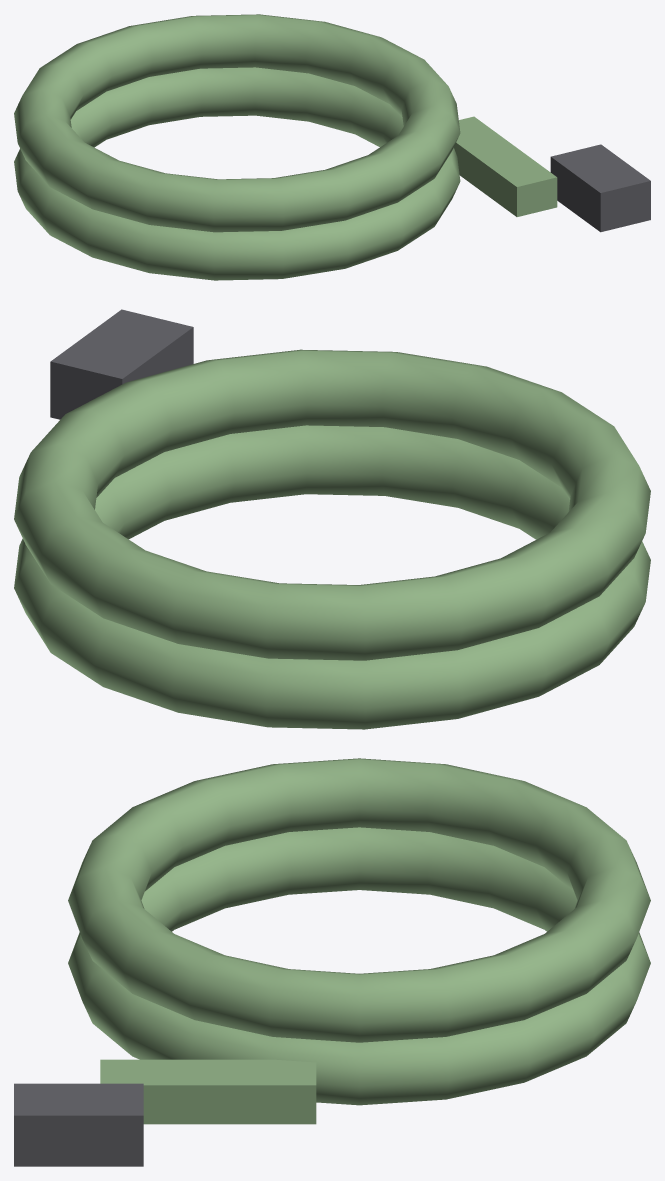
The model's file is extension-cord.gltf.
3 views of the same model, one above another, from view 1: azimuth 30°, elevation 25°; view 2: azimuth 150°, elevation 25°; view 3: azimuth 270°, elevation 25° (orthographic). The views are drawn at different scales.
Parts seen in each view (by area): view 1: CoilB, CoilA, Plug, Tail; view 2: CoilB, CoilA, Plug; view 3: CoilB, CoilA, Tail, Plug.
Part boxes in pixels (x1,y1,x2,y2): CoilB: [14, 14, 460, 232]; CoilA: [14, 67, 460, 280]; Plug: [550, 144, 650, 232]; Tail: [454, 116, 557, 216]; CoilB: [14, 349, 650, 660]; CoilA: [14, 425, 650, 729]; Plug: [50, 309, 193, 419]; CoilB: [68, 758, 650, 1042]; CoilA: [68, 827, 650, 1105]; Tail: [100, 1059, 316, 1124]; Plug: [14, 1083, 143, 1166].
Bounding box in the file's own units: 0.0206 × 0.00412 × 0.0184.
